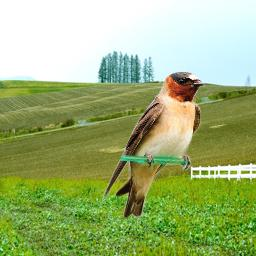Swallow: (102, 71, 205, 218)
